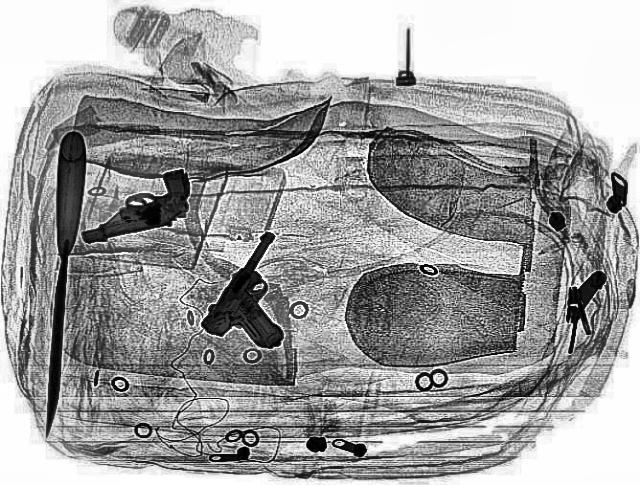Gun: (191, 230, 343, 356), (62, 167, 206, 245)
Knife: (35, 130, 87, 436)
